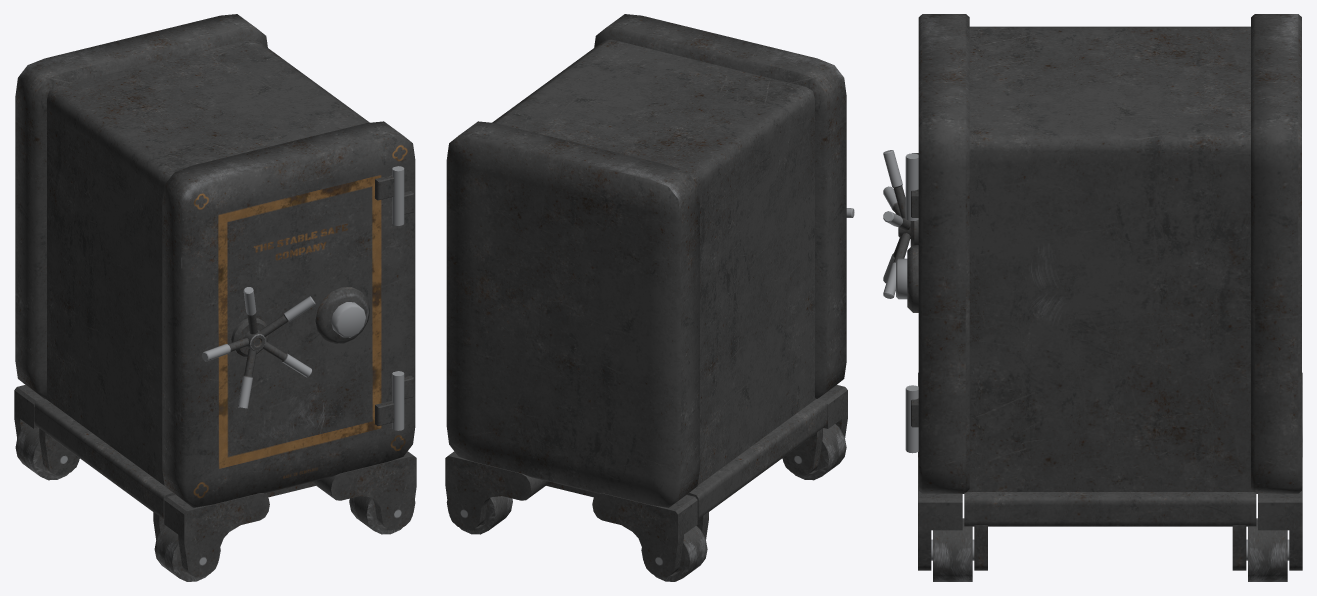
The model's file is antique_iron_safe.glb.
3 views of the same model, side by side, from view 1: azimuth 30°, elevation 25°; view 2: azimuth 150°, elevation 25°; view 3: azimuth 270°, elevation 25° (orthographic). The views are drawn at different scales.
Visible parts, largest first — view 1: Safe_LP; view 2: Safe_LP; view 3: Safe_LP.
Part boxes in pixels (<box>): Safe_LP: <box>14,14,416,581</box>; Safe_LP: <box>445,14,854,581</box>; Safe_LP: <box>883,14,1302,581</box>.
Size of the model in its own units: 0.6219 by 0.9836 by 0.8199.
1 material, 1 textured.
